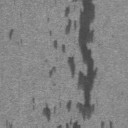red iron: (56, 0, 98, 128), (53, 40, 66, 52), (42, 103, 50, 122), (48, 66, 56, 77), (100, 121, 112, 128), (9, 29, 14, 40), (46, 18, 50, 23), (32, 98, 35, 103), (50, 30, 52, 36)
